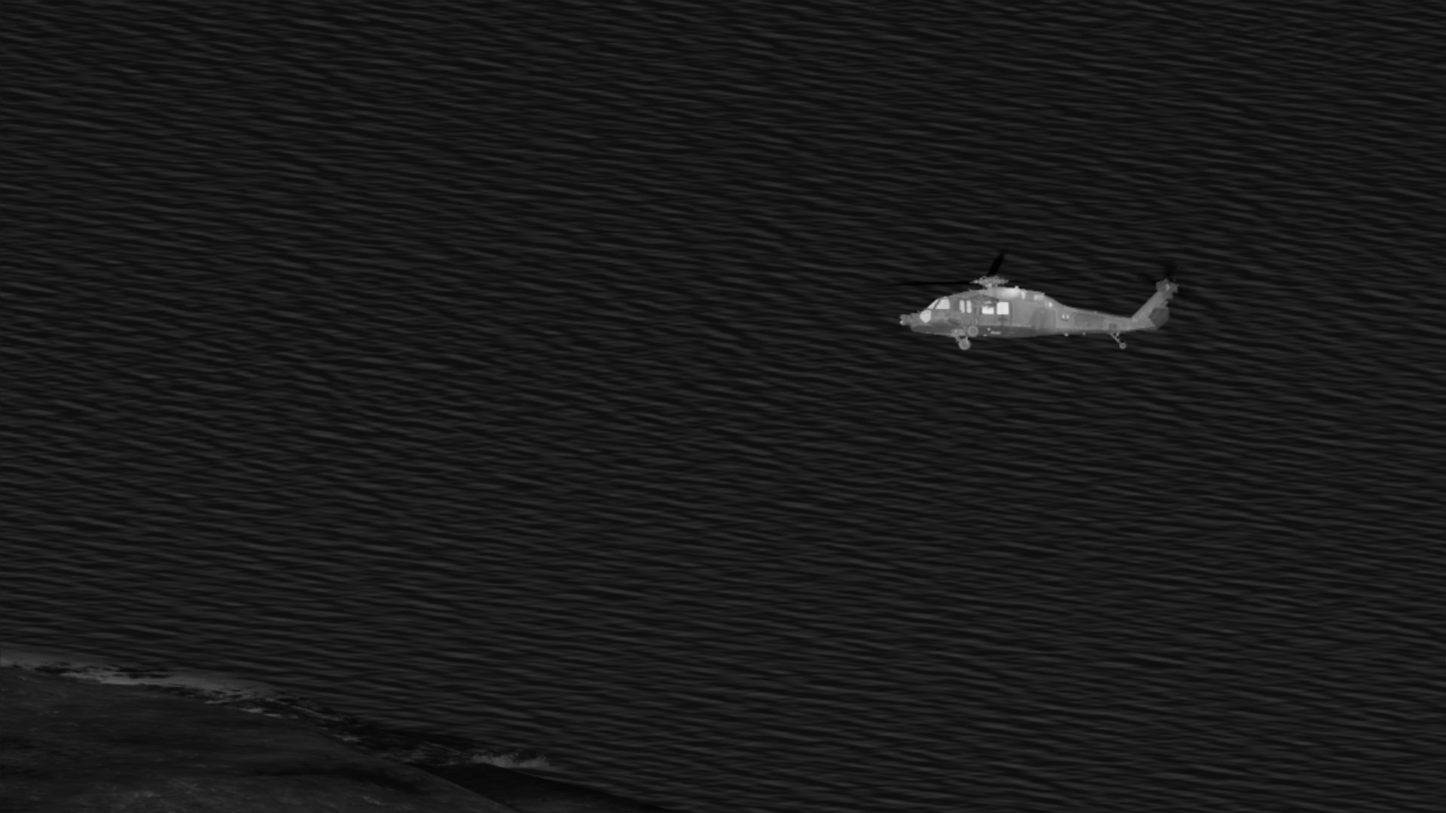ah/uh60: (883, 276, 1182, 350)
